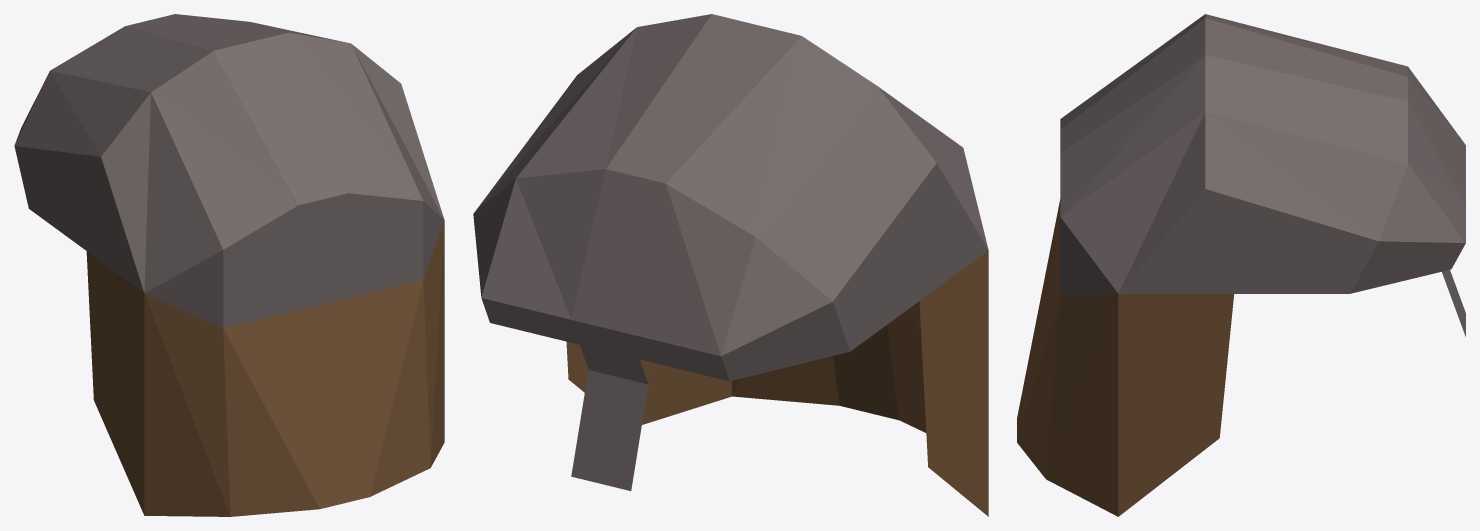
The model's file is npc_world_dwarf_4_6.obj.
The picture shows the model from 3 angles, left to right: view 1: azimuth 30°, elevation 25°; view 2: azimuth 150°, elevation 25°; view 3: azimuth 270°, elevation 25°; orthographic projection. The views are drawn at different scales.
Bounding box in the file's own units: 0.1875 × 0.2422 × 0.2422.
